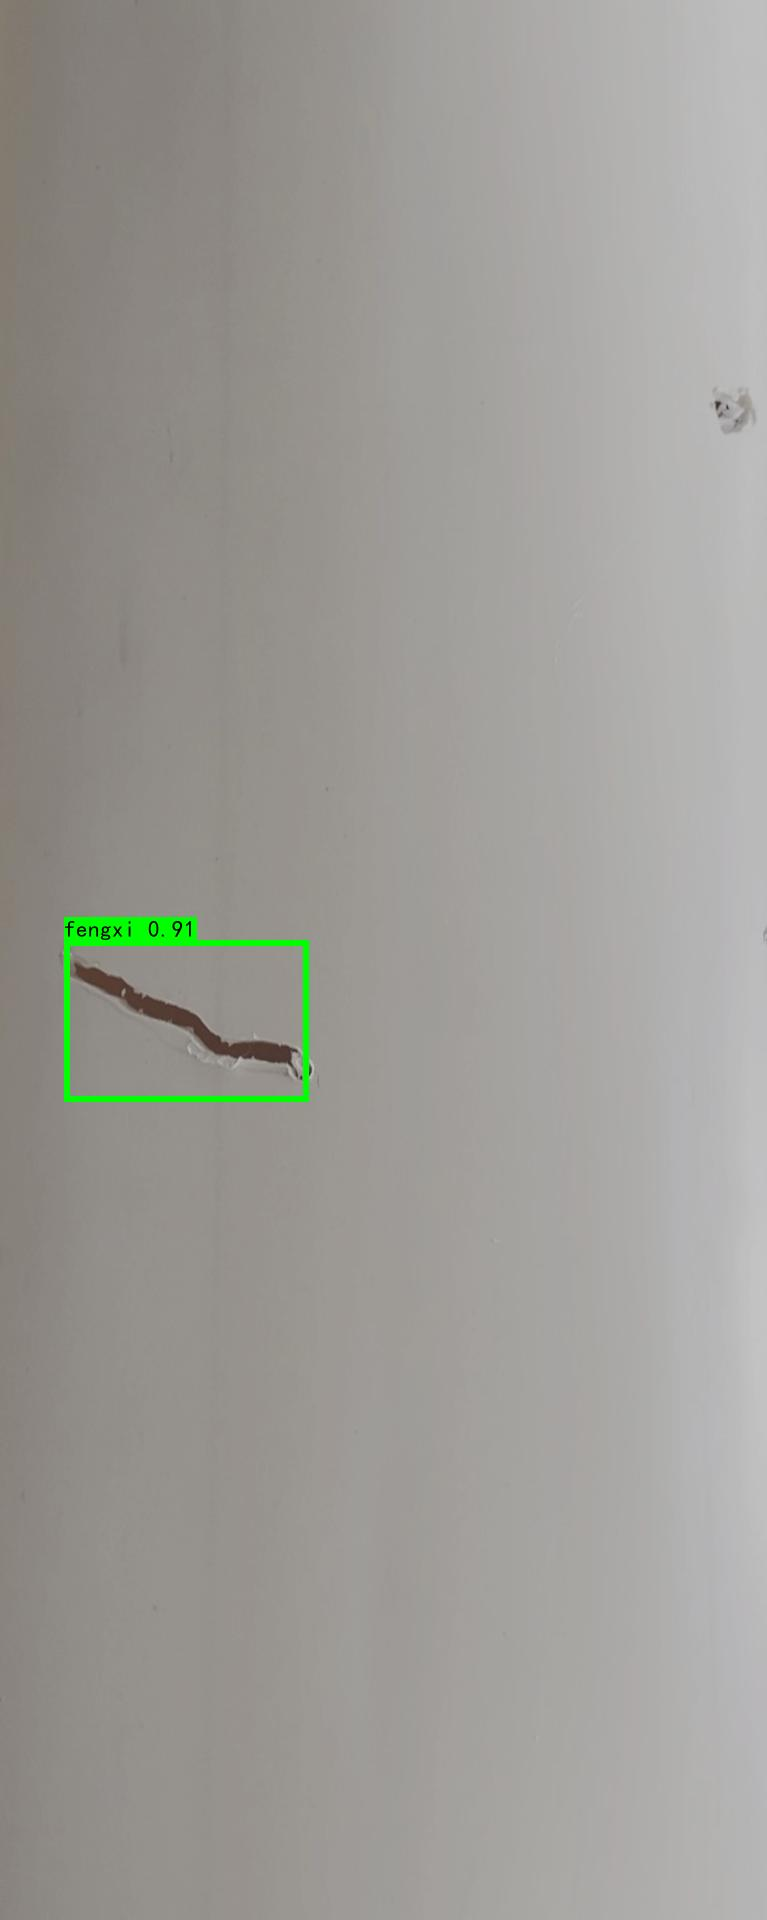fengxi: (44, 936, 331, 1082)
kongdong: (693, 386, 751, 440)
